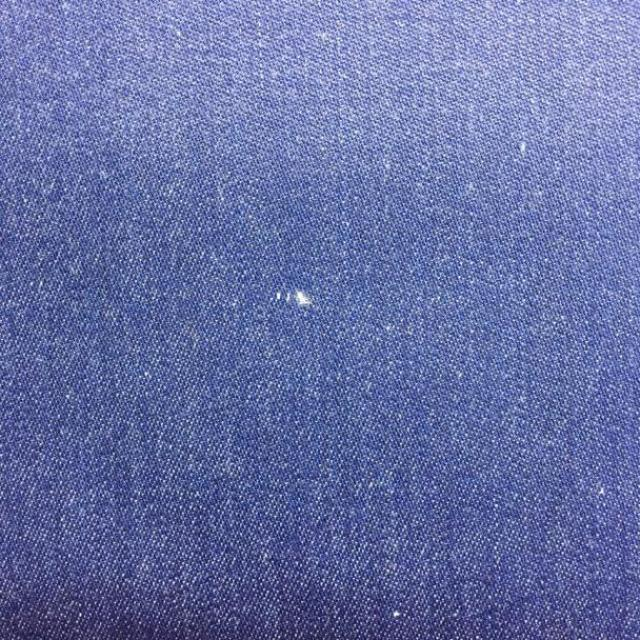Knot: (272, 288, 315, 309)
